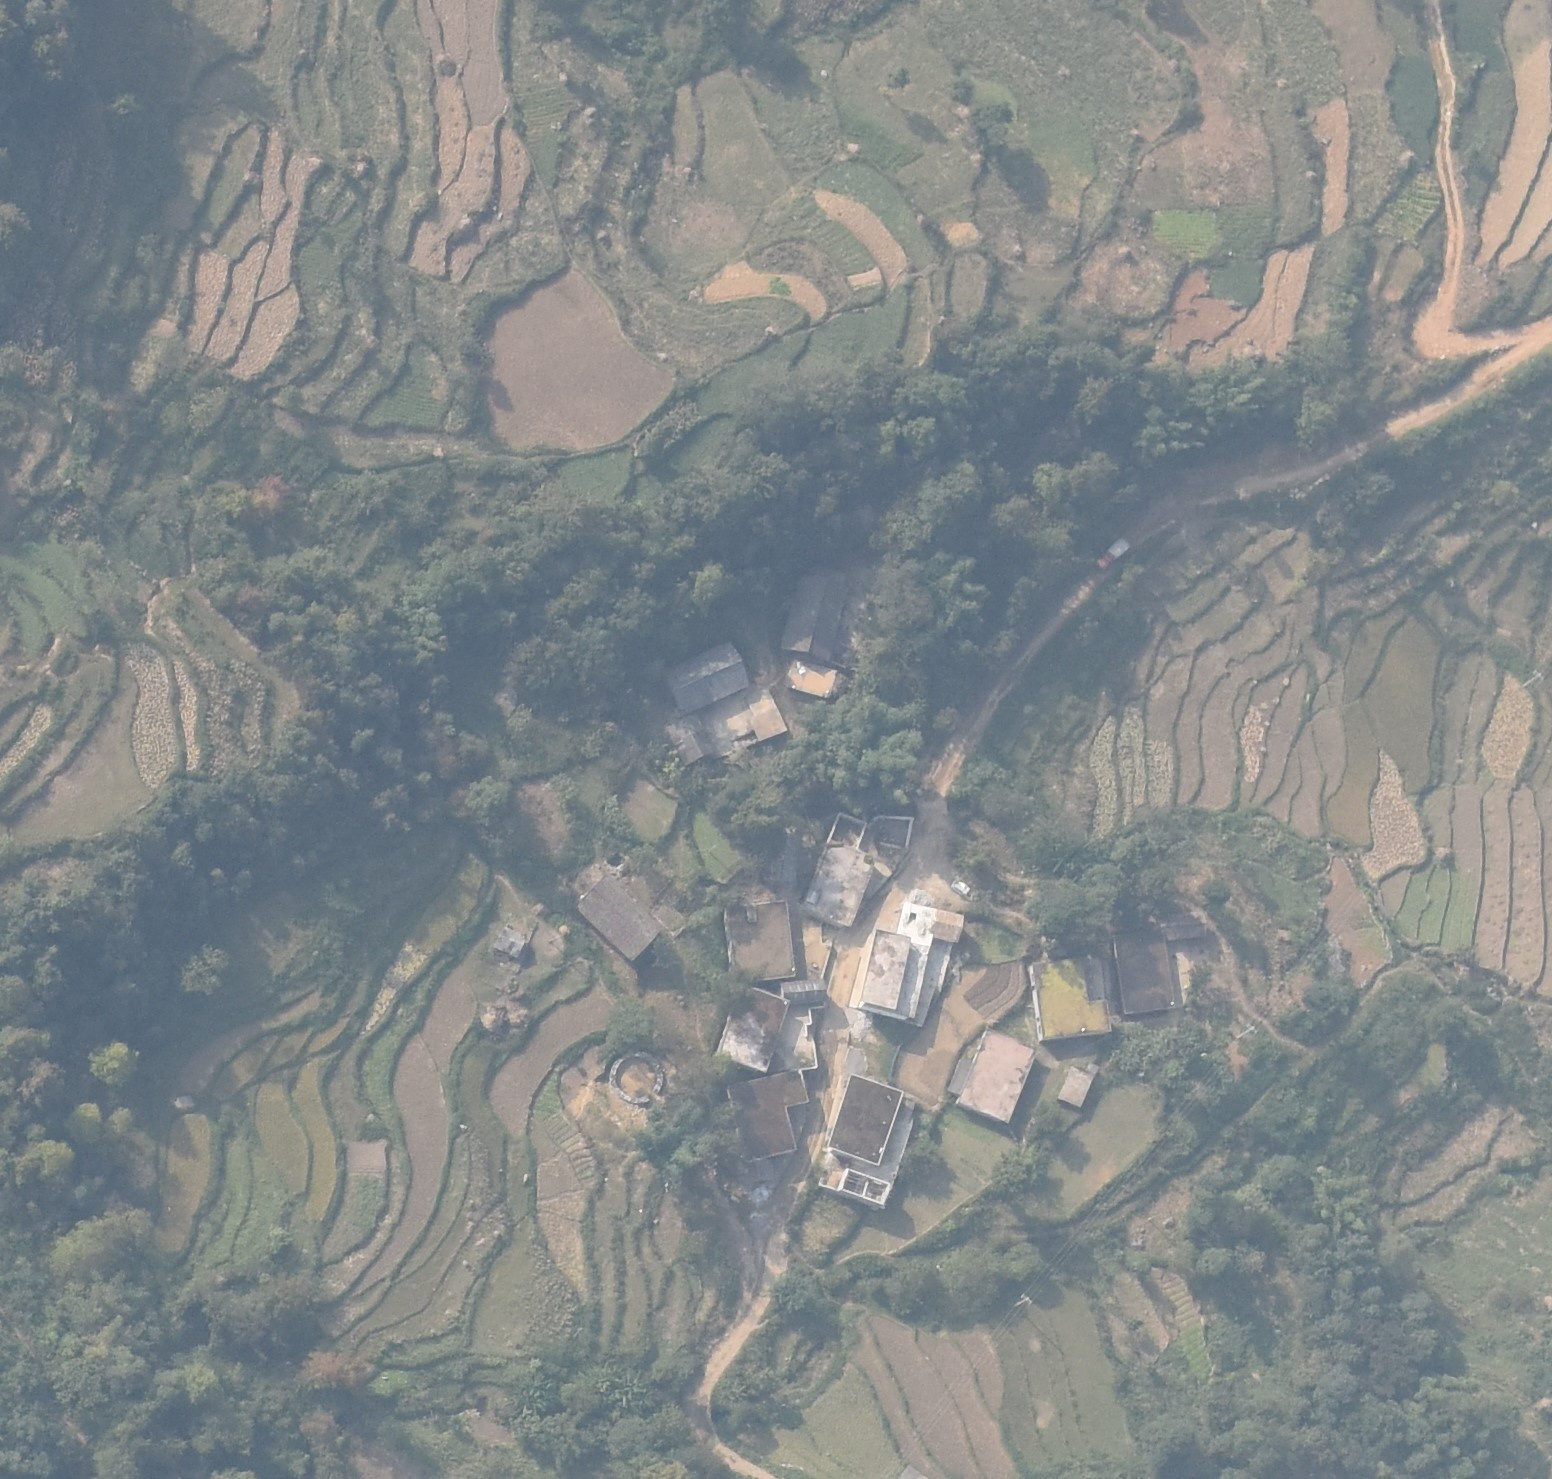building: (861, 900, 963, 1027), (802, 812, 874, 927), (727, 1067, 809, 1163), (574, 875, 661, 961), (958, 1027, 1037, 1121), (827, 1071, 903, 1169), (715, 983, 788, 1073), (1034, 961, 1113, 1037), (725, 901, 794, 981), (782, 566, 841, 658), (665, 645, 750, 708), (1114, 930, 1178, 1012), (668, 711, 715, 765), (837, 1164, 892, 1207), (787, 657, 837, 699), (746, 700, 788, 742), (1057, 1067, 1093, 1106), (1164, 912, 1207, 943), (784, 980, 827, 1004), (495, 926, 525, 955)
vehicle: (1097, 538, 1132, 568), (951, 877, 971, 897)
